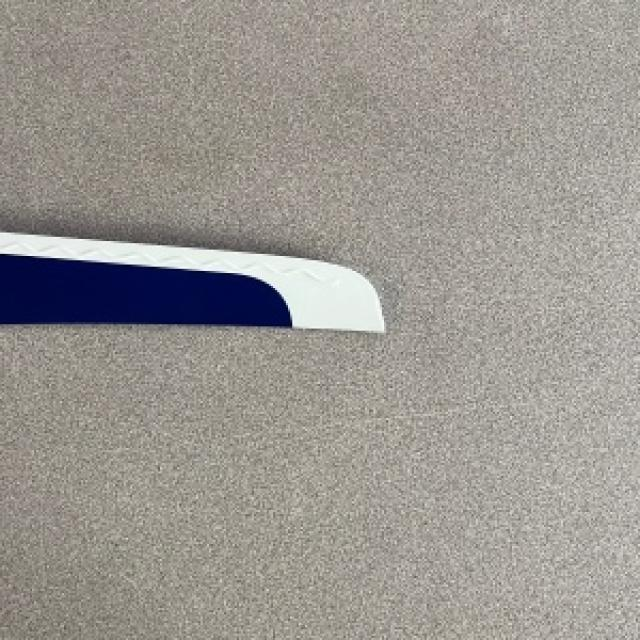healthy: (0, 230, 382, 331)
